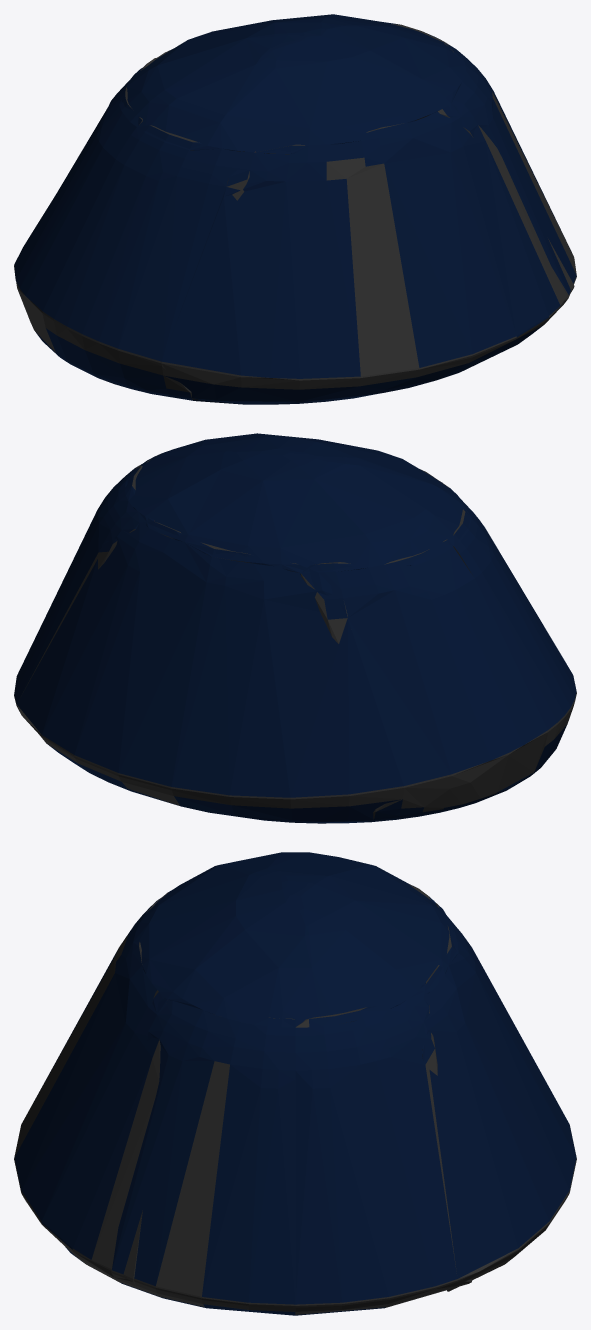
The model's file is hat_collider.fbx.
The picture shows the model from 3 angles, top to bottom: view 1: azimuth 30°, elevation 25°; view 2: azimuth 150°, elevation 25°; view 3: azimuth 270°, elevation 25°; orthographic projection. The views are drawn at different scales.
Visible parts, largest first — view 1: Line04.002, Line04.001, Line04.006, Line04, Line04.005; view 2: Line04.003, Line04, Line04.001, Line04.006, Line04.004; view 3: Line04.005, Line04.004, Line04.001, Line04.003, Line04.002.
Boxes of the visible parts, x1,y1,x2,y2 form: Line04.002: (161, 104, 574, 404); Line04.001: (119, 14, 465, 154); Line04.006: (42, 124, 255, 400); Line04: (14, 57, 158, 356); Line04.005: (438, 43, 576, 303); Line04.003: (16, 521, 403, 823); Line04: (300, 539, 547, 821); Line04.001: (125, 433, 471, 573); Line04.006: (449, 488, 576, 775); Line04.004: (14, 465, 154, 704); Line04.005: (111, 990, 295, 1315); Line04.004: (295, 984, 472, 1315); Line04.001: (133, 852, 458, 1027); Line04.003: (422, 903, 576, 1291); Line04.002: (14, 893, 167, 1287).
Bounding box in the file's own units: 2.29 × 1.17 × 1.98.
